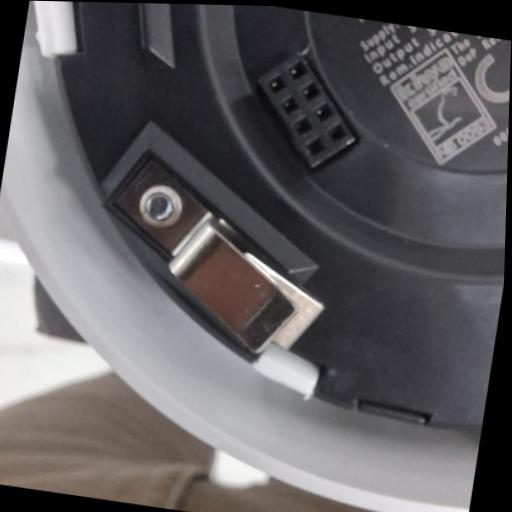yayli: (83, 149, 337, 366)
